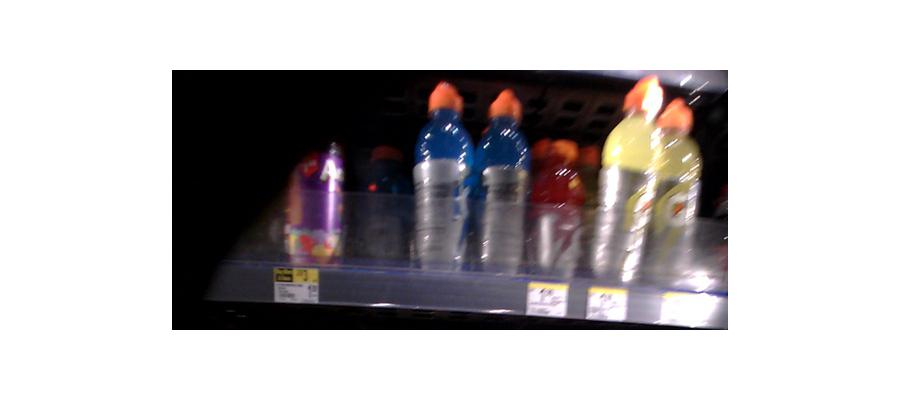bottle: (594, 81, 671, 289), (410, 81, 472, 277), (644, 90, 704, 290), (473, 89, 532, 271), (281, 130, 349, 266), (535, 135, 586, 281), (355, 132, 407, 270)
